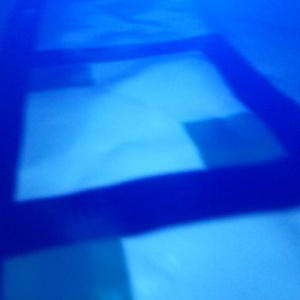bottom_right: (1, 51, 93, 91)
top_left: (2, 204, 132, 300), (182, 112, 300, 206)
